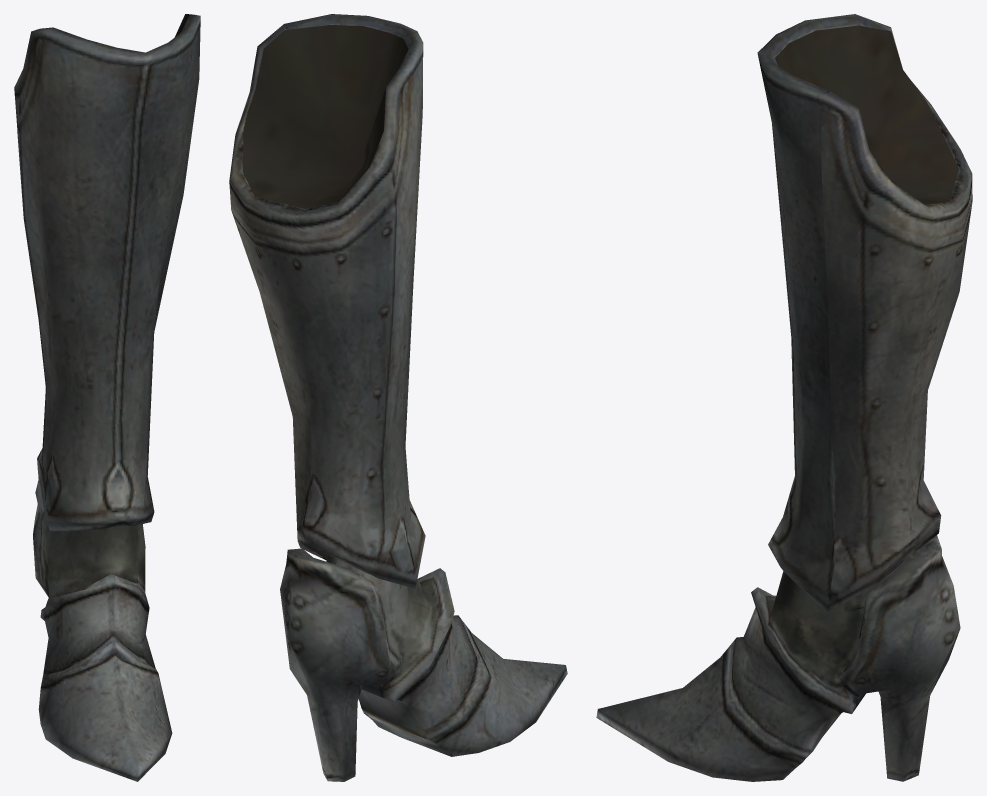
Rendered from NavarraBoots.fbx.
3 views of the same model, side by side, from view 1: azimuth 30°, elevation 25°; view 2: azimuth 150°, elevation 25°; view 3: azimuth 270°, elevation 25° (orthographic). The views are drawn at different scales.
Visible parts, largest first — view 1: LV_Navarra_Object_Armor01_Boots_SM_KDK; view 2: LV_Navarra_Object_Armor01_Boots_SM_KDK; view 3: LV_Navarra_Object_Armor01_Boots_SM_KDK.
Part boxes in pixels (left/top/right/bottom): LV_Navarra_Object_Armor01_Boots_SM_KDK: left=14, top=14, right=200, bottom=781; LV_Navarra_Object_Armor01_Boots_SM_KDK: left=229, top=14, right=567, bottom=781; LV_Navarra_Object_Armor01_Boots_SM_KDK: left=596, top=14, right=972, bottom=781.
Bounding box in the file's own units: 3.35 × 10.99 × 5.04.
